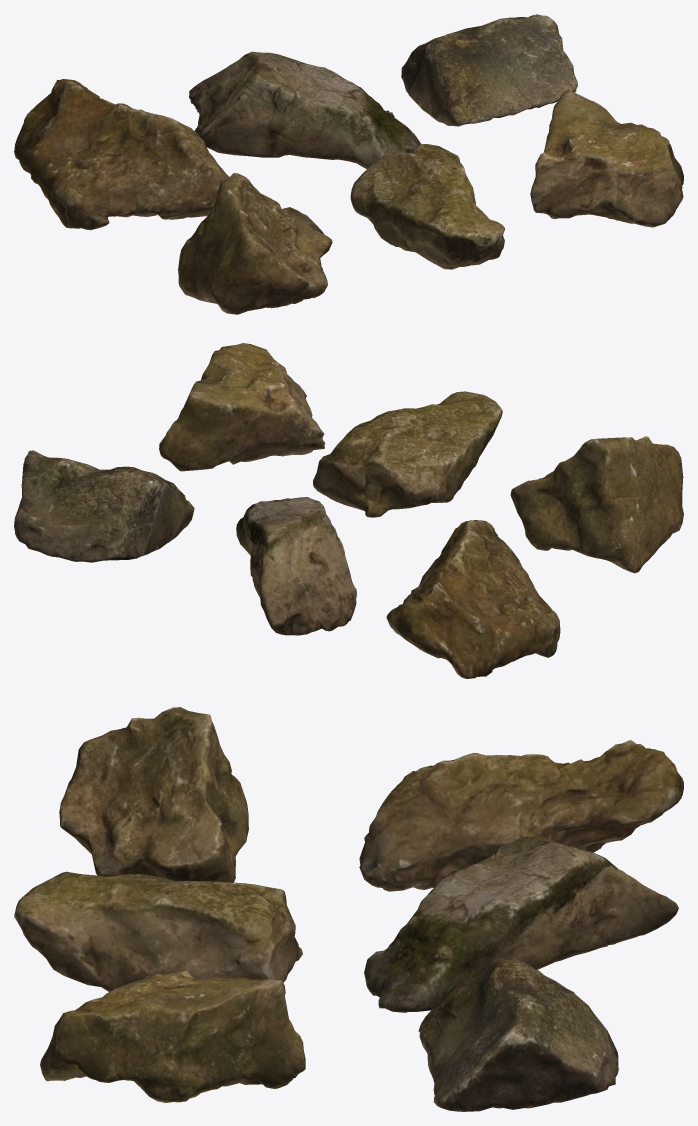
The model's file is rock_moss_set_01.glb.
The picture shows the model from 3 angles, top to bottom: view 1: azimuth 30°, elevation 25°; view 2: azimuth 150°, elevation 25°; view 3: azimuth 270°, elevation 25°; orthographic projection. The views are drawn at different scales.
Visible parts, largest first — view 1: rock_moss_set_01_rock01; view 2: rock_moss_set_01_rock01; view 3: rock_moss_set_01_rock01.
Part boxes in pixels (x1,y1,x2,y2): rock_moss_set_01_rock01: (14,14,683,314); rock_moss_set_01_rock01: (14,343,683,678); rock_moss_set_01_rock01: (14,707,683,1111).
Size of the model in its own units: 8 by 1.76 by 6.94.
Materials: 1 (1 with a texture image).
